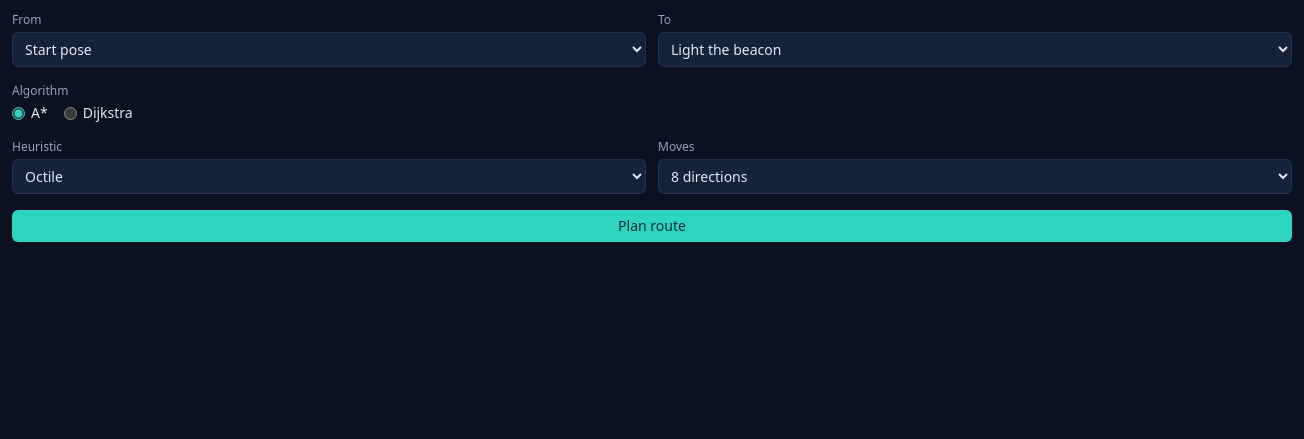
Scenario: RoutePanel › plans a route and reports length, time and search effort
Select "Lower the bridge" in the dropdown labelled "To" at (975, 50), box [658,32,1292,67]
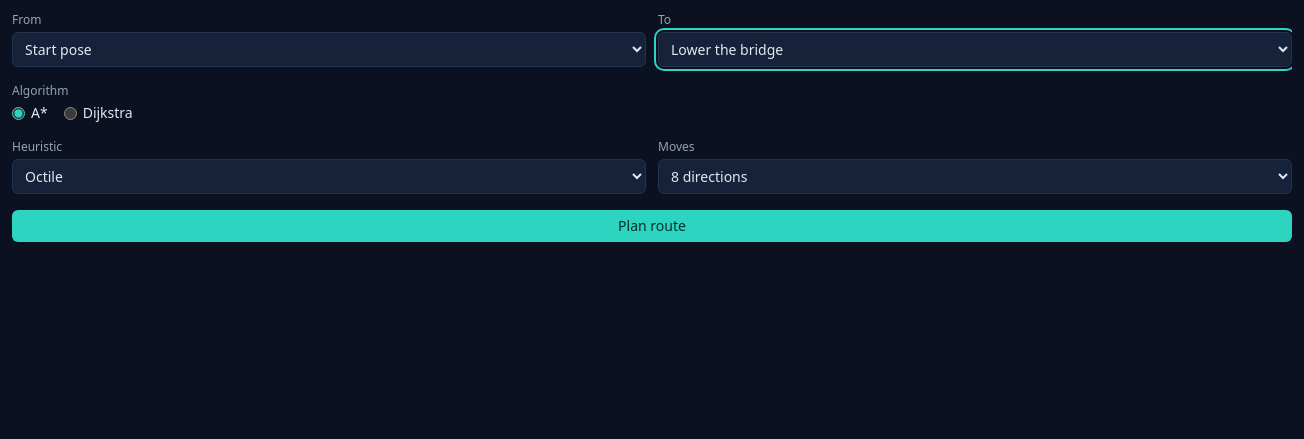
Click the button "Plan route" at (652, 226), box [12,210,1292,242]
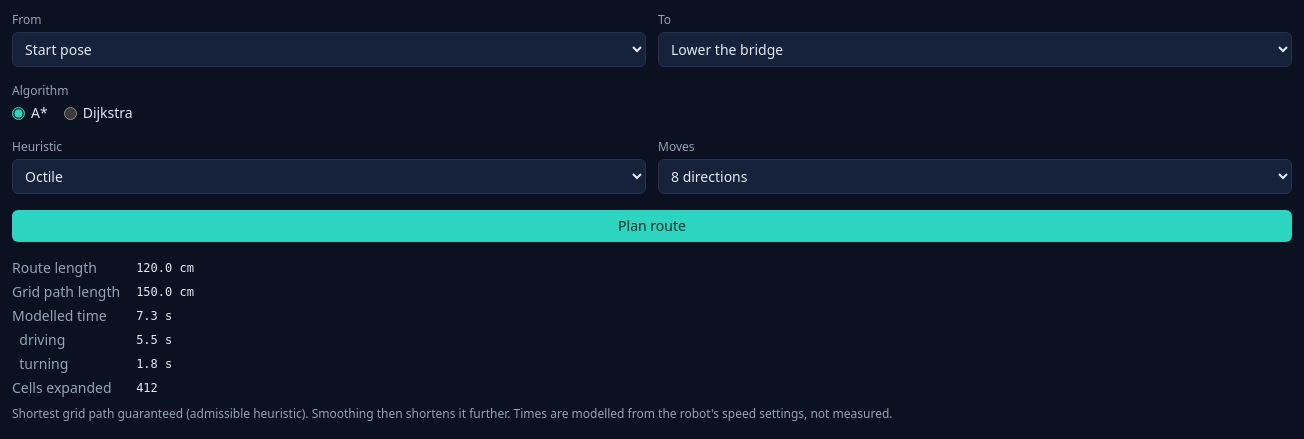
Check: the text "120.0 cm" is shown, box [136,261,194,275]
Check: the text "7.3 s" is shown, box [136,309,172,323]
Check: the text "412" is shown, box [136,381,158,395]
